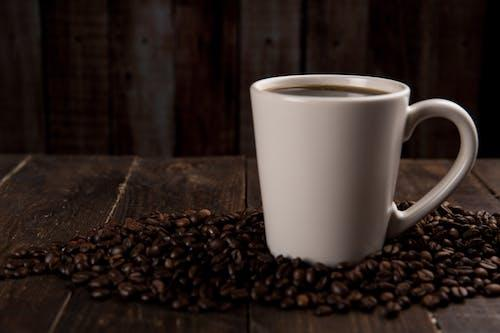Mug: (231, 47, 487, 304)
